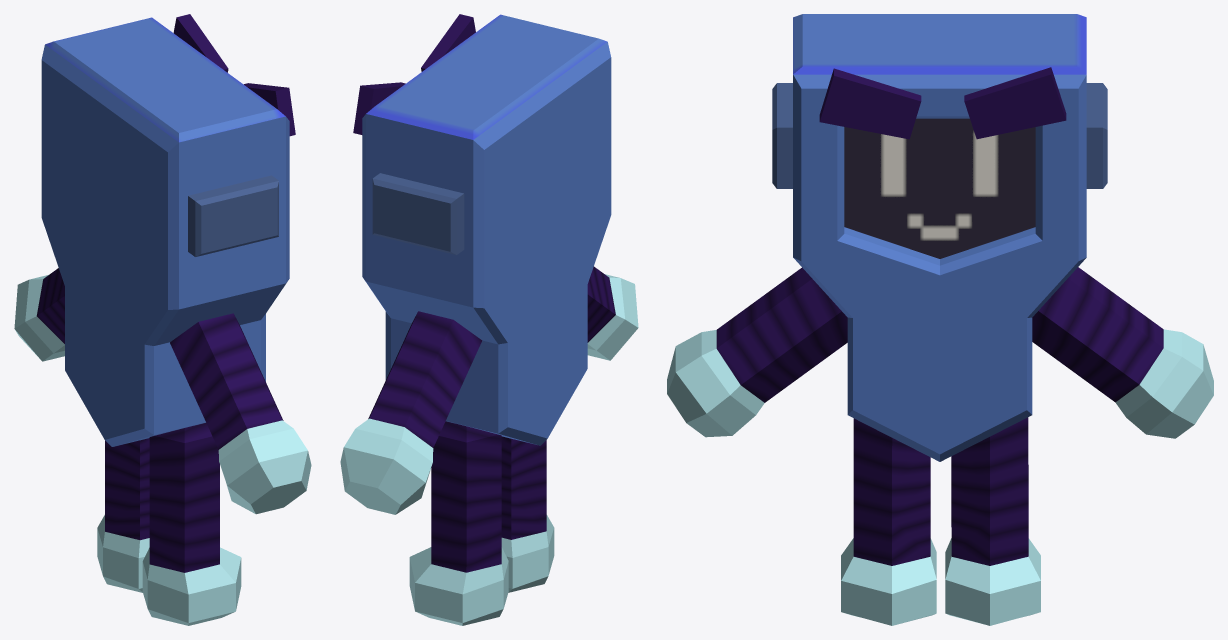
File: Circuit Dude.glb
The picture shows the model from 3 angles, left to right: view 1: azimuth 30°, elevation 25°; view 2: azimuth 150°, elevation 25°; view 3: azimuth 270°, elevation 25°; orthographic projection. The views are drawn at different scales.
Visible parts, largest first — view 1: Circuit Dude; view 2: Circuit Dude; view 3: Circuit Dude.
Part boxes in pixels (left/top/right/bottom): Circuit Dude: left=14, top=14, right=311, bottom=625; Circuit Dude: left=340, top=14, right=638, bottom=625; Circuit Dude: left=667, top=14, right=1213, bottom=625.
Bounding box in the file's own units: 0.3506 × 1.29 × 1.11.
1 material, 1 textured.
